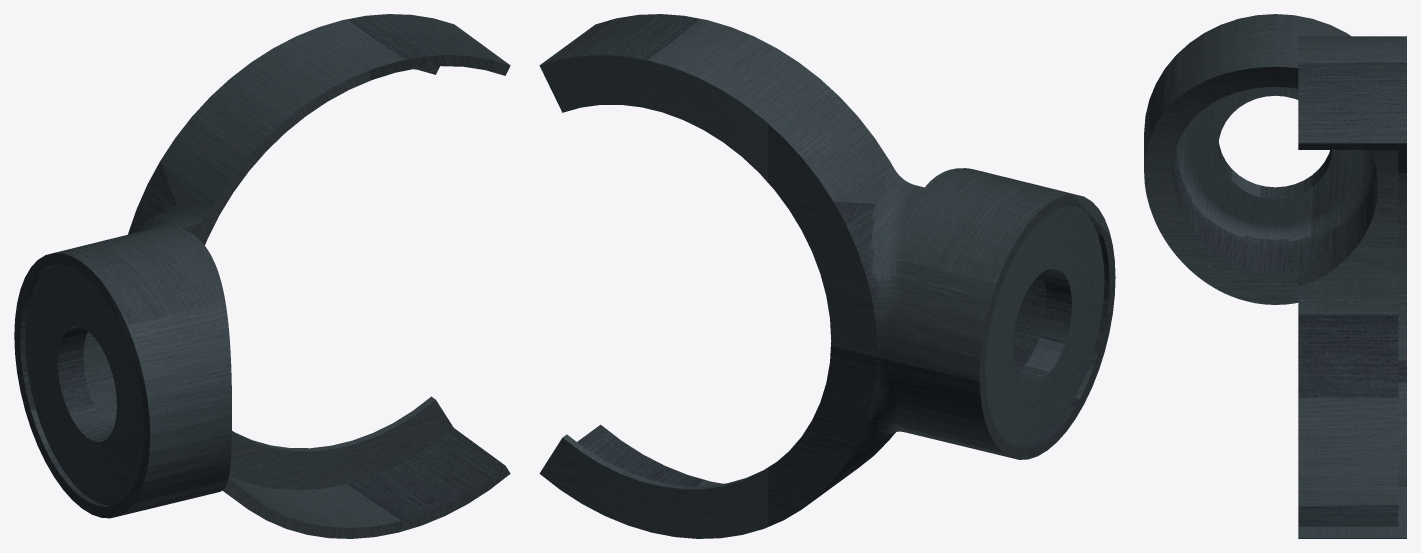
Rendered from bp5_abad.dae.
3 views of the same model, side by side, from view 1: azimuth 30°, elevation 25°; view 2: azimuth 150°, elevation 25°; view 3: azimuth 270°, elevation 25° (orthographic). The views are drawn at different scales.
Parts seen in each view (by area): view 1: ABAD2HIP; view 2: ABAD2HIP; view 3: ABAD2HIP.
Boxes of the visible parts, box(x1,y1,x2,y2) form: ABAD2HIP: box(14, 14, 510, 538); ABAD2HIP: box(539, 14, 1115, 538); ABAD2HIP: box(1144, 14, 1406, 538).
Bounding box in the file's own units: 0.086 × 0.046 × 0.088.
